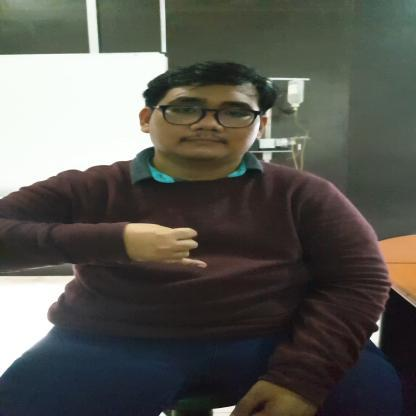J: (118, 222, 209, 268)
